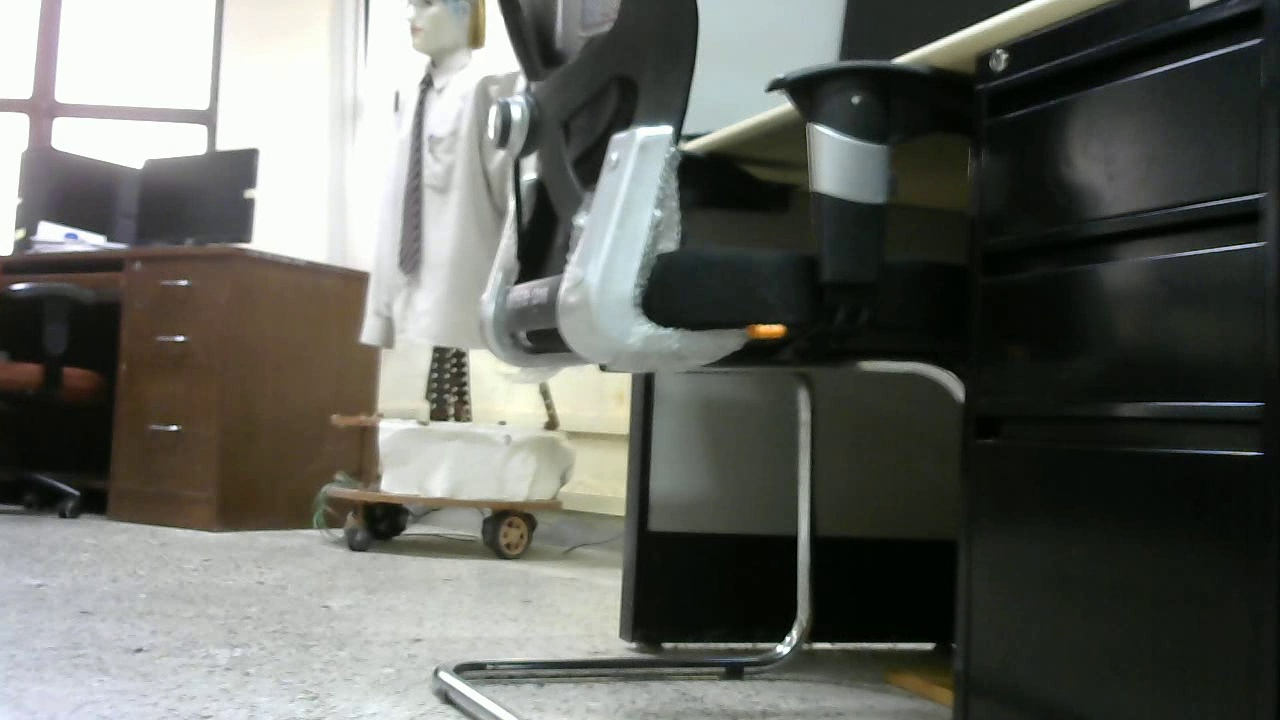chair: (430, 1, 974, 720), (1, 259, 120, 523)
